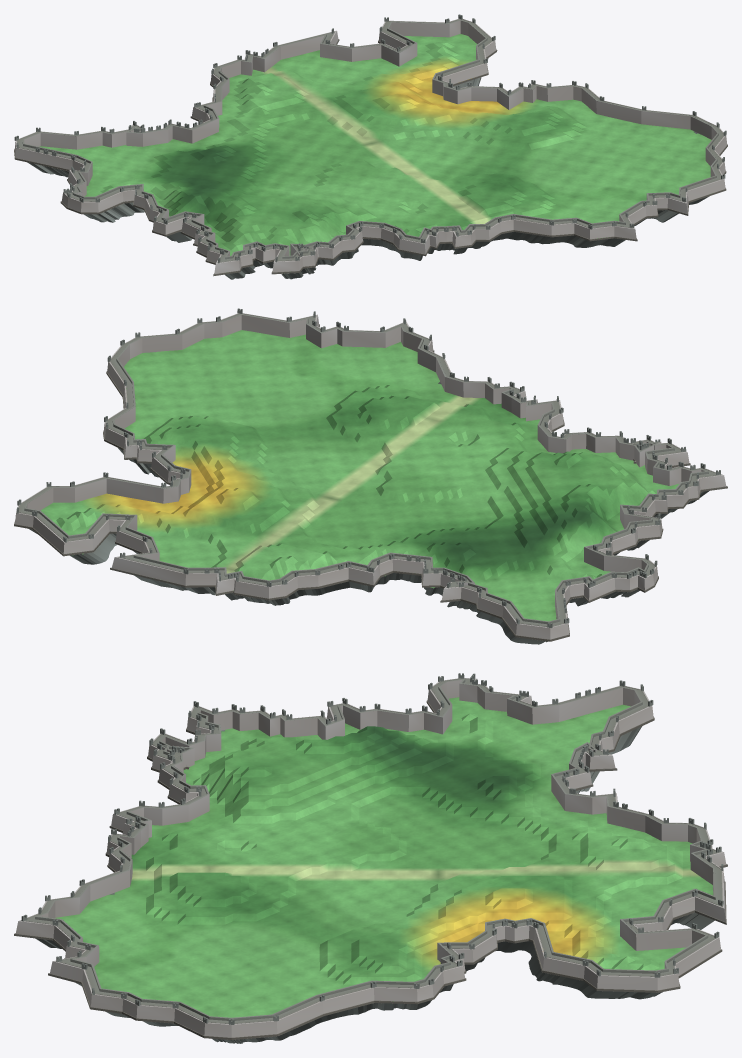
The picture shows the model from 3 angles, top to bottom: view 1: azimuth 30°, elevation 25°; view 2: azimuth 150°, elevation 25°; view 3: azimuth 270°, elevation 25°; orthographic projection. The views are drawn at different scales.
Visible parts, largest first — view 1: ground_4ac88df3; view 2: ground_4ac88df3; view 3: ground_4ac88df3.
Part boxes in pixels (box(x1,y1,x2,y2)): ground_4ac88df3: box(14, 14, 727, 279); ground_4ac88df3: box(14, 308, 727, 644); ground_4ac88df3: box(14, 673, 727, 1043).
Bounding box in the file's own units: 157 × 8.13 × 136.
3 materials, 1 textured.
